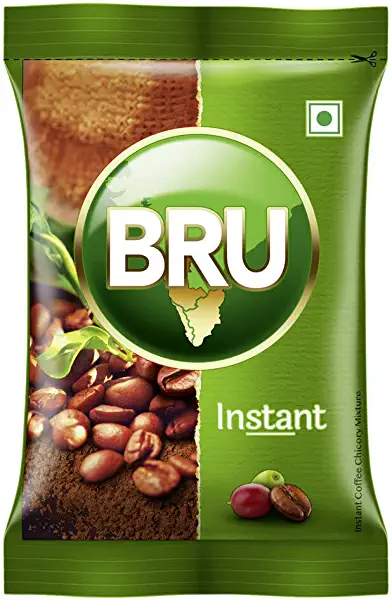veg: (296, 95, 344, 146)
